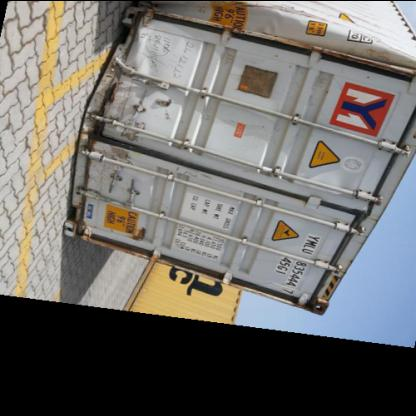Damage: (224, 10, 416, 88), (100, 13, 202, 130), (297, 192, 391, 302), (86, 145, 124, 188)
